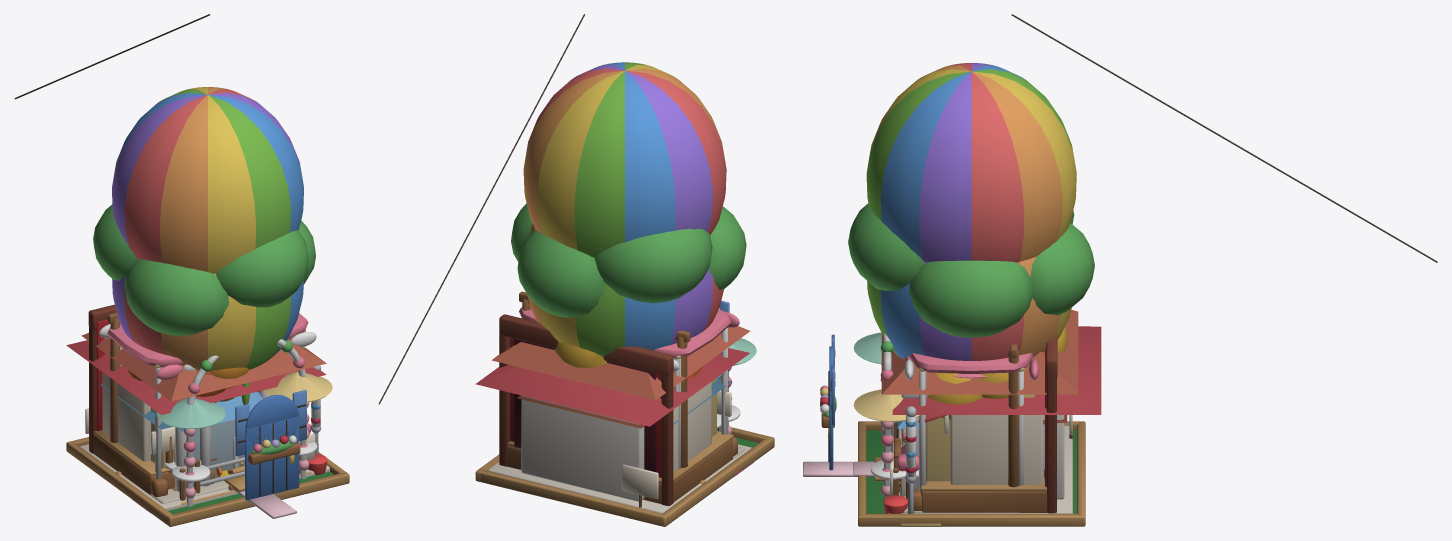
File: place2.glb
3 renders of one model, left to right at view 1: azimuth 30°, elevation 25°; view 2: azimuth 150°, elevation 25°; view 3: azimuth 270°, elevation 25°, orthographic. The views are drawn at different scales.
Parts seen in each view (by area): view 1: ballonplatz, baumhaus, heissluftballon, restaurant, bibliothek, minigolf, tuer14_blau, buehne, kapelle, inselcafe, salon14, gewaechshaus (+8 smaller); view 2: ballonplatz, baumhaus, kapelle, buehne, restaurant, heissluftballon, minigolf, bibliothek, salon14, freiluftkino, baum15_autumn_4, seilbahn (+2 smaller); view 3: ballonplatz, baumhaus, restaurant, heissluftballon, minigolf, bibliothek, buehne, salon14, kapelle, inselcafe, freiluftkino, baum15_autumn_4 (+1 smaller).
Part boxes in pixels (box(x1,y1,x2,y2)): ballonplatz: box(112, 87, 315, 504); baumhaus: box(93, 204, 315, 335); heissluftballon: box(112, 259, 303, 371); restaurant: box(66, 340, 326, 497); bibliothek: box(81, 333, 326, 503); minigolf: box(66, 408, 349, 526); tuer14_blau: box(245, 394, 299, 500); buehne: box(88, 304, 309, 494); kapelle: box(80, 339, 329, 518); inselcafe: box(156, 371, 332, 499); salon14: box(99, 313, 321, 478); gewaechshaus: box(193, 419, 244, 486); ballonplatz: box(523, 62, 726, 257); baumhaus: box(511, 203, 746, 317); kapelle: box(488, 308, 751, 513); buehne: box(499, 314, 733, 505); restaurant: box(475, 348, 749, 471); heissluftballon: box(527, 223, 723, 356); minigolf: box(475, 427, 774, 526); bibliothek: box(491, 326, 750, 458); salon14: box(519, 307, 739, 469); freiluftkino: box(519, 291, 754, 476); baum15_autumn_4: box(555, 342, 701, 378); seilbahn: box(378, 14, 584, 404); ballonplatz: box(866, 63, 1076, 495); baumhaus: box(848, 203, 1094, 337); restaurant: box(892, 326, 1101, 510); heissluftballon: box(867, 257, 1071, 373); minigolf: box(858, 415, 1085, 526); bibliothek: box(881, 309, 1078, 512); buehne: box(921, 336, 1057, 513); salon14: box(904, 353, 1038, 513); kapelle: box(803, 333, 1072, 513); inselcafe: box(853, 332, 1044, 479); freiluftkino: box(883, 344, 1018, 526); baum15_autumn_4: box(928, 327, 1067, 419).
Bounding box in the file's own units: 2.87 × 6.38 × 7.53.
